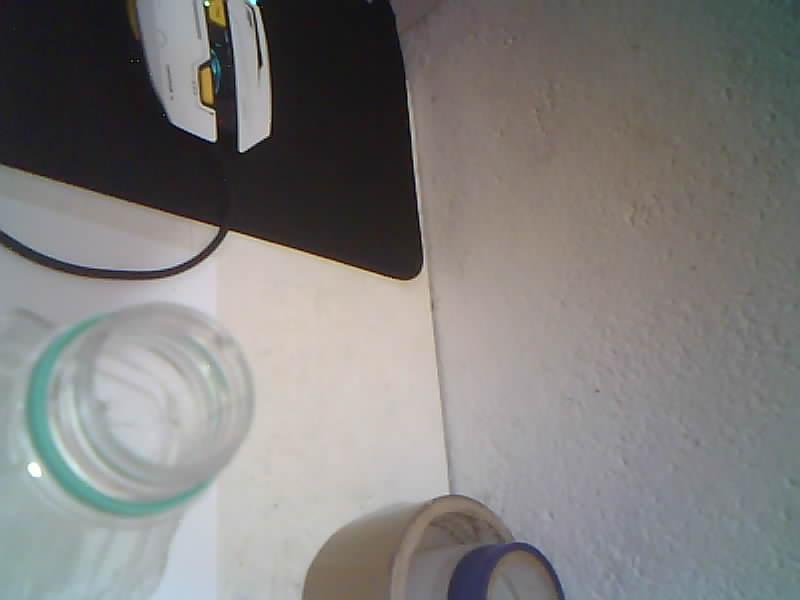non-biodegradable: (0, 304, 253, 599)
